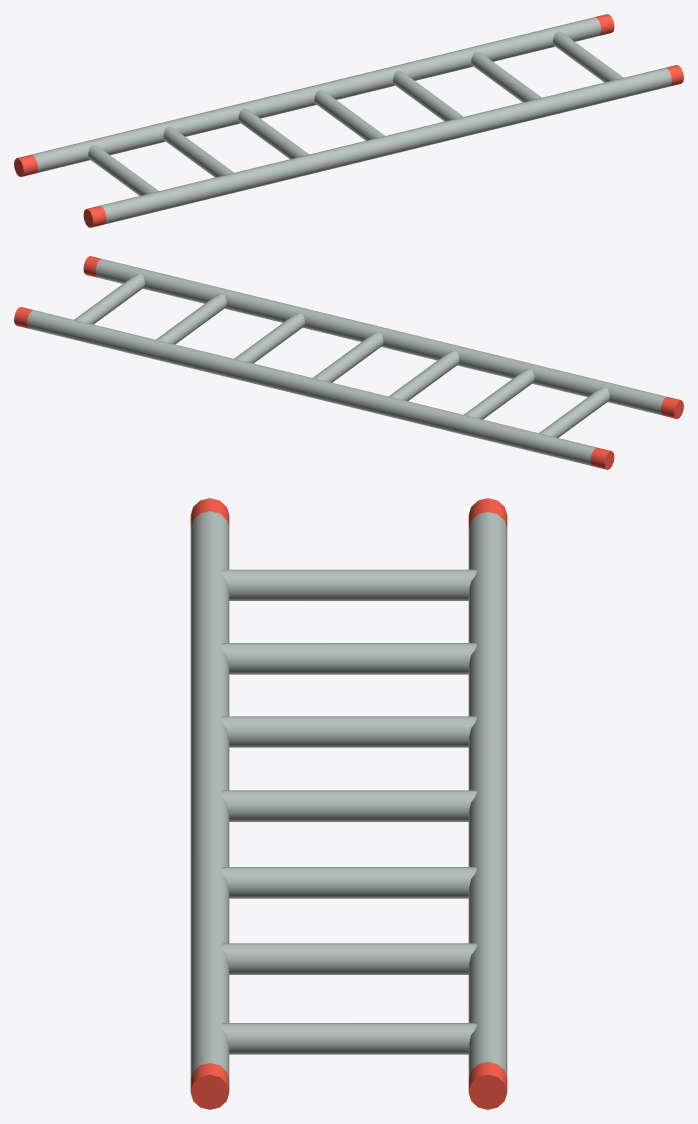
Rendered from Ladder.fbx.
3 renders of one model, top to bottom at view 1: azimuth 30°, elevation 25°; view 2: azimuth 150°, elevation 25°; view 3: azimuth 270°, elevation 25°, orthographic. The views are drawn at different scales.
Visible parts, largest first — view 1: Ladder; view 2: Ladder; view 3: Ladder.
Part boxes in pixels (x1=…): Ladder: x1=14, y1=14, x2=683, y2=227; Ladder: x1=14, y1=256, x2=683, y2=469; Ladder: x1=190, y1=498, x2=507, y2=1109.
Bounding box in the file's own units: 4.08 × 0.1164 × 0.948.
